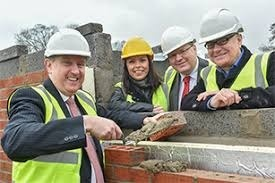helmet: (197, 7, 243, 46), (41, 27, 93, 59), (158, 24, 195, 59), (120, 33, 156, 59)
person with full safety: (7, 26, 106, 181), (114, 34, 159, 113), (157, 26, 208, 90)
person with partial safety: (196, 8, 251, 78)
safety vest: (15, 85, 99, 177), (204, 61, 273, 96), (120, 83, 162, 111), (163, 67, 209, 90)
